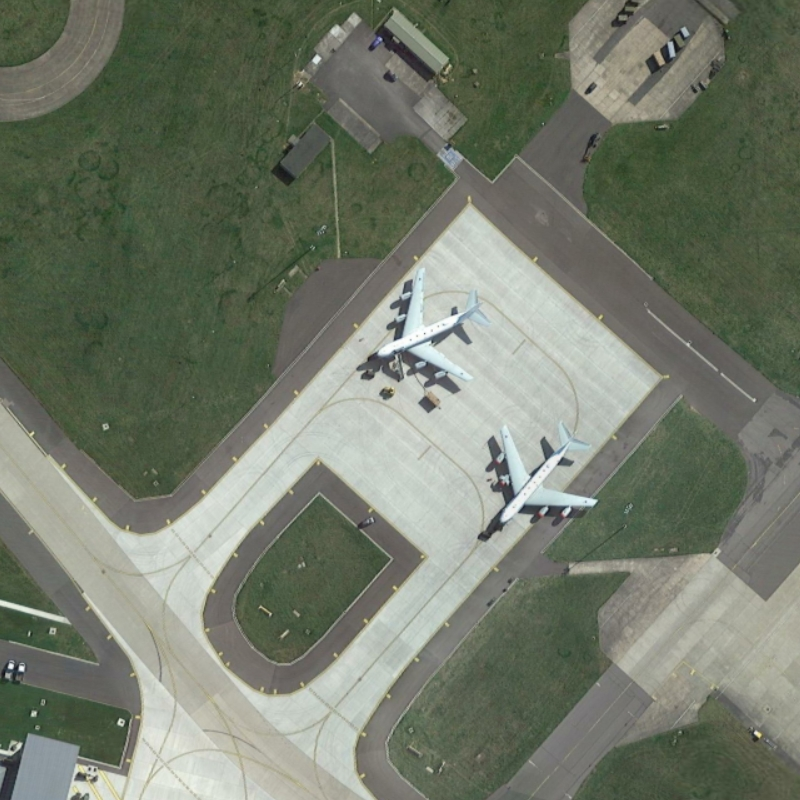A11: (358, 261, 499, 397), (479, 411, 615, 540)
